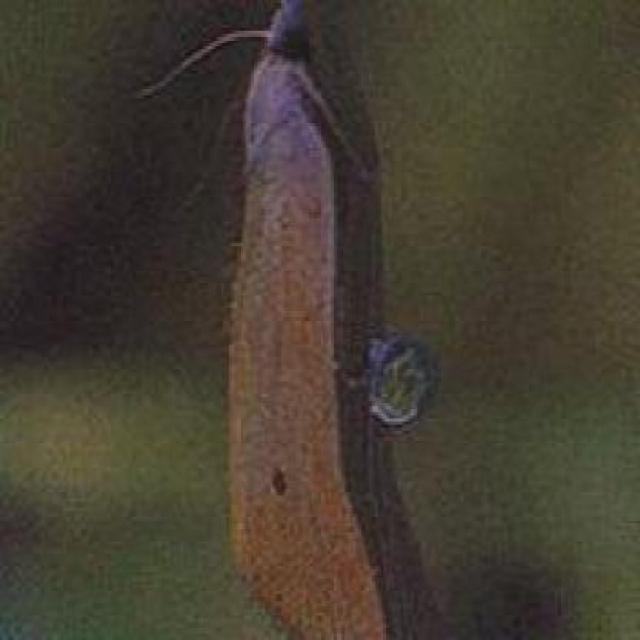stem-borer: (216, 0, 370, 640)
